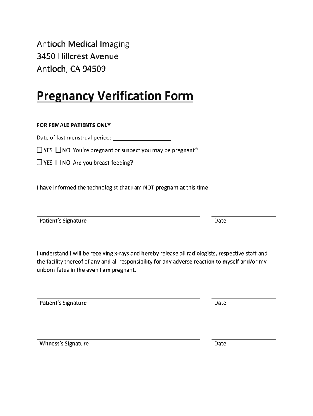checkbox: (55, 145, 63, 156), (35, 146, 44, 154), (55, 158, 62, 168), (35, 158, 43, 166)
textline: (34, 206, 207, 220), (34, 289, 202, 301), (33, 333, 204, 341), (206, 288, 278, 301), (207, 332, 277, 344), (210, 208, 282, 219), (110, 134, 177, 143)
